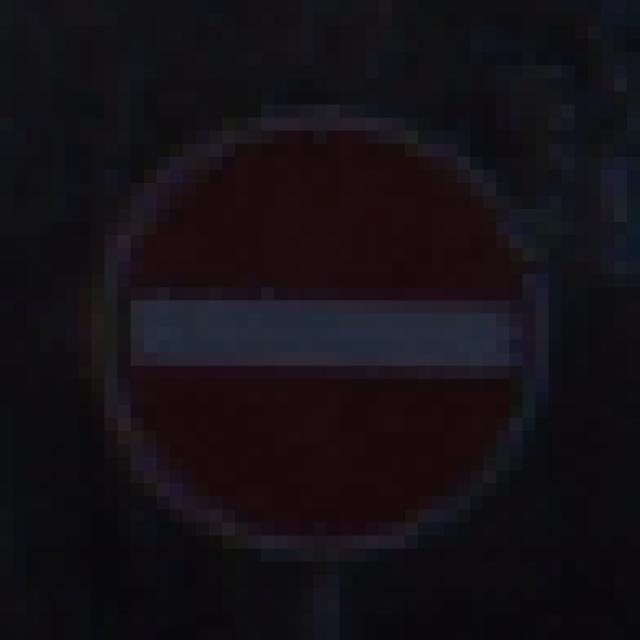No Entry: (79, 79, 576, 576)
